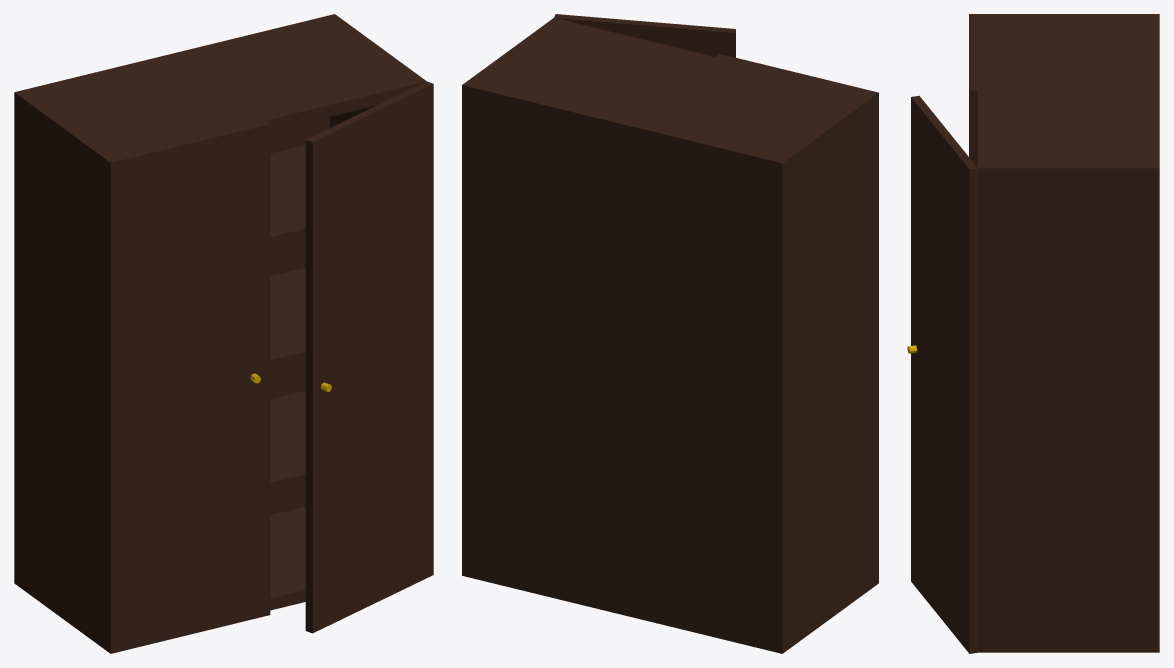
Rendered from Schrank04.fbx.
3 views of the same model, side by side, from view 1: azimuth 30°, elevation 25°; view 2: azimuth 150°, elevation 25°; view 3: azimuth 270°, elevation 25° (orthographic).
Parts seen in each view (by area): view 1: Cube.027; view 2: Cube.027; view 3: Cube.027.
Boxes of the visible parts, <box> form: Cube.027: <box>14,14,433,653</box>; Cube.027: <box>462,14,878,653</box>; Cube.027: <box>907,14,1159,653</box>.
Size of the model in its own units: 406 by 589 by 278.
